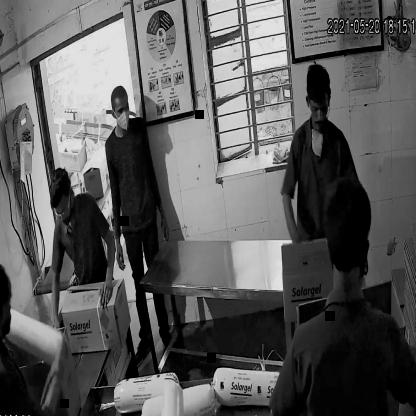no_goggles: (303, 95, 332, 118), (51, 201, 76, 221), (109, 103, 132, 120)
